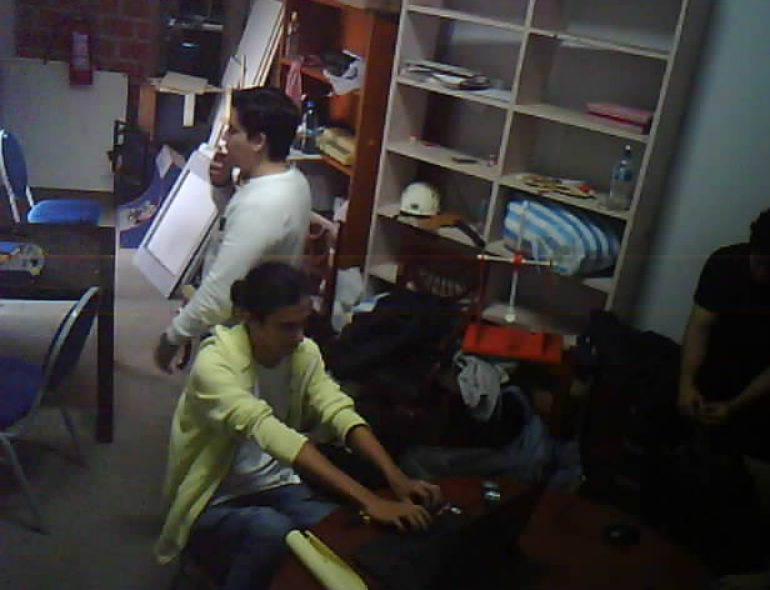person: (137, 248, 512, 590), (155, 64, 323, 379), (648, 179, 770, 547)
